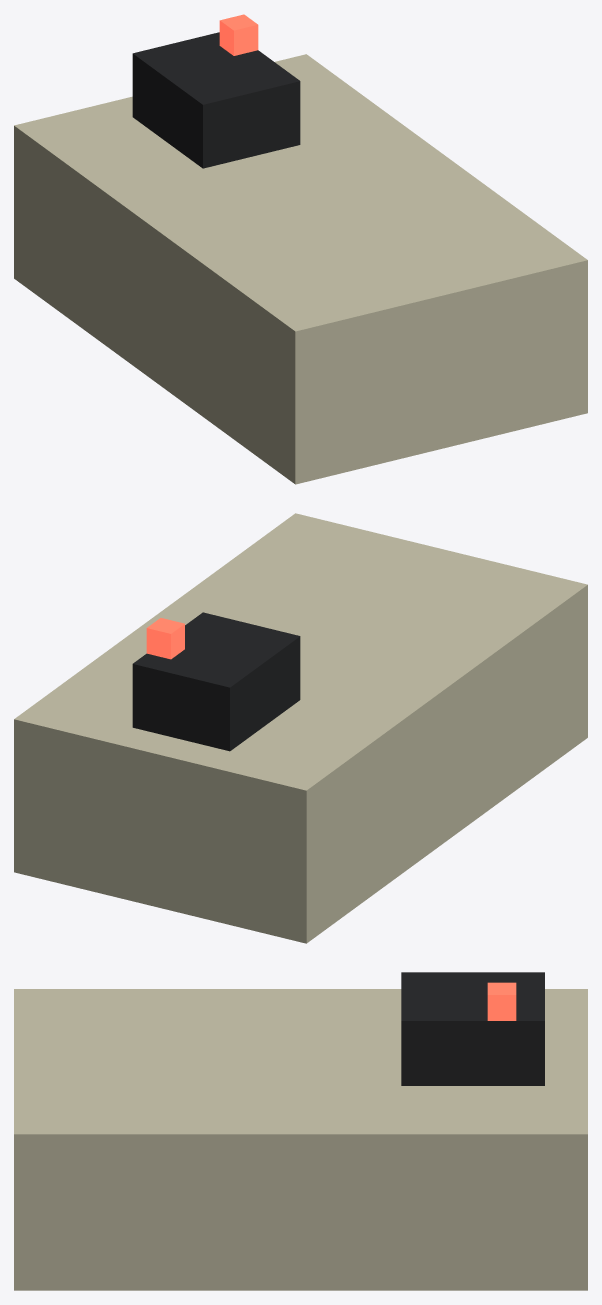
3 renders of one model, top to bottom at view 1: azimuth 30°, elevation 25°; view 2: azimuth 150°, elevation 25°; view 3: azimuth 270°, elevation 25°, orthographic.
Parts seen in each view (by area): view 1: Block, Detonator, Light; view 2: Block, Detonator, Light; view 3: Block, Detonator, Light.
Boxes of the visible parts, x1,y1,x2,y2 form: Block: [14, 54, 587, 484]; Detonator: [132, 32, 300, 168]; Light: [219, 14, 258, 55]; Block: [14, 513, 587, 943]; Detonator: [132, 612, 300, 751]; Light: [146, 618, 184, 659]; Block: [14, 989, 587, 1290]; Detonator: [401, 972, 544, 1085]; Light: [487, 982, 516, 1020].
Bounding box in the file's own units: 12 × 20 × 9.5.
